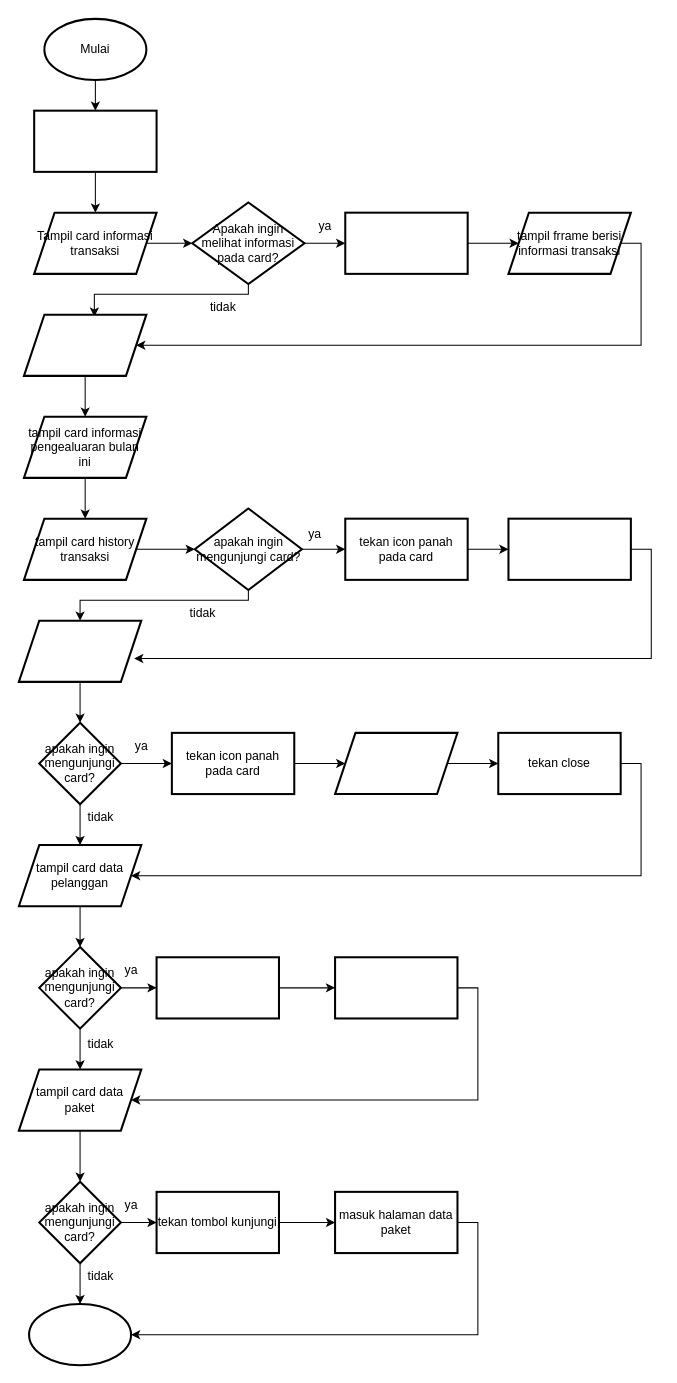
Image size: 677x1383. Some labels were removed from this diagram. Each missing label, with the box of its shape:
Masuk dashboard admin: (33, 109, 157, 172)
masuk halaman data pelanggan: (334, 956, 458, 1019)
masuk ke halaman history transaksi: (507, 517, 631, 580)
Selesai: (28, 1303, 132, 1366)
tampil card data kasir: (17, 619, 142, 682)
tampil card informasi pemasukan bulan ini: (22, 313, 147, 376)
tampil frame data kasir: (334, 731, 458, 795)
tekan icon pada card: (155, 956, 279, 1019)
tekan tombol lihat informasi: (344, 211, 468, 274)
